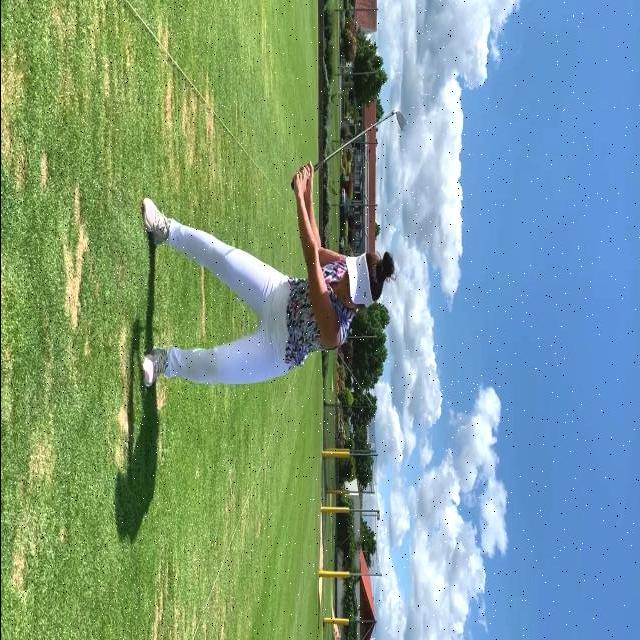golf club-handle: (289, 107, 408, 193)
golf club-head: (396, 110, 406, 132)
